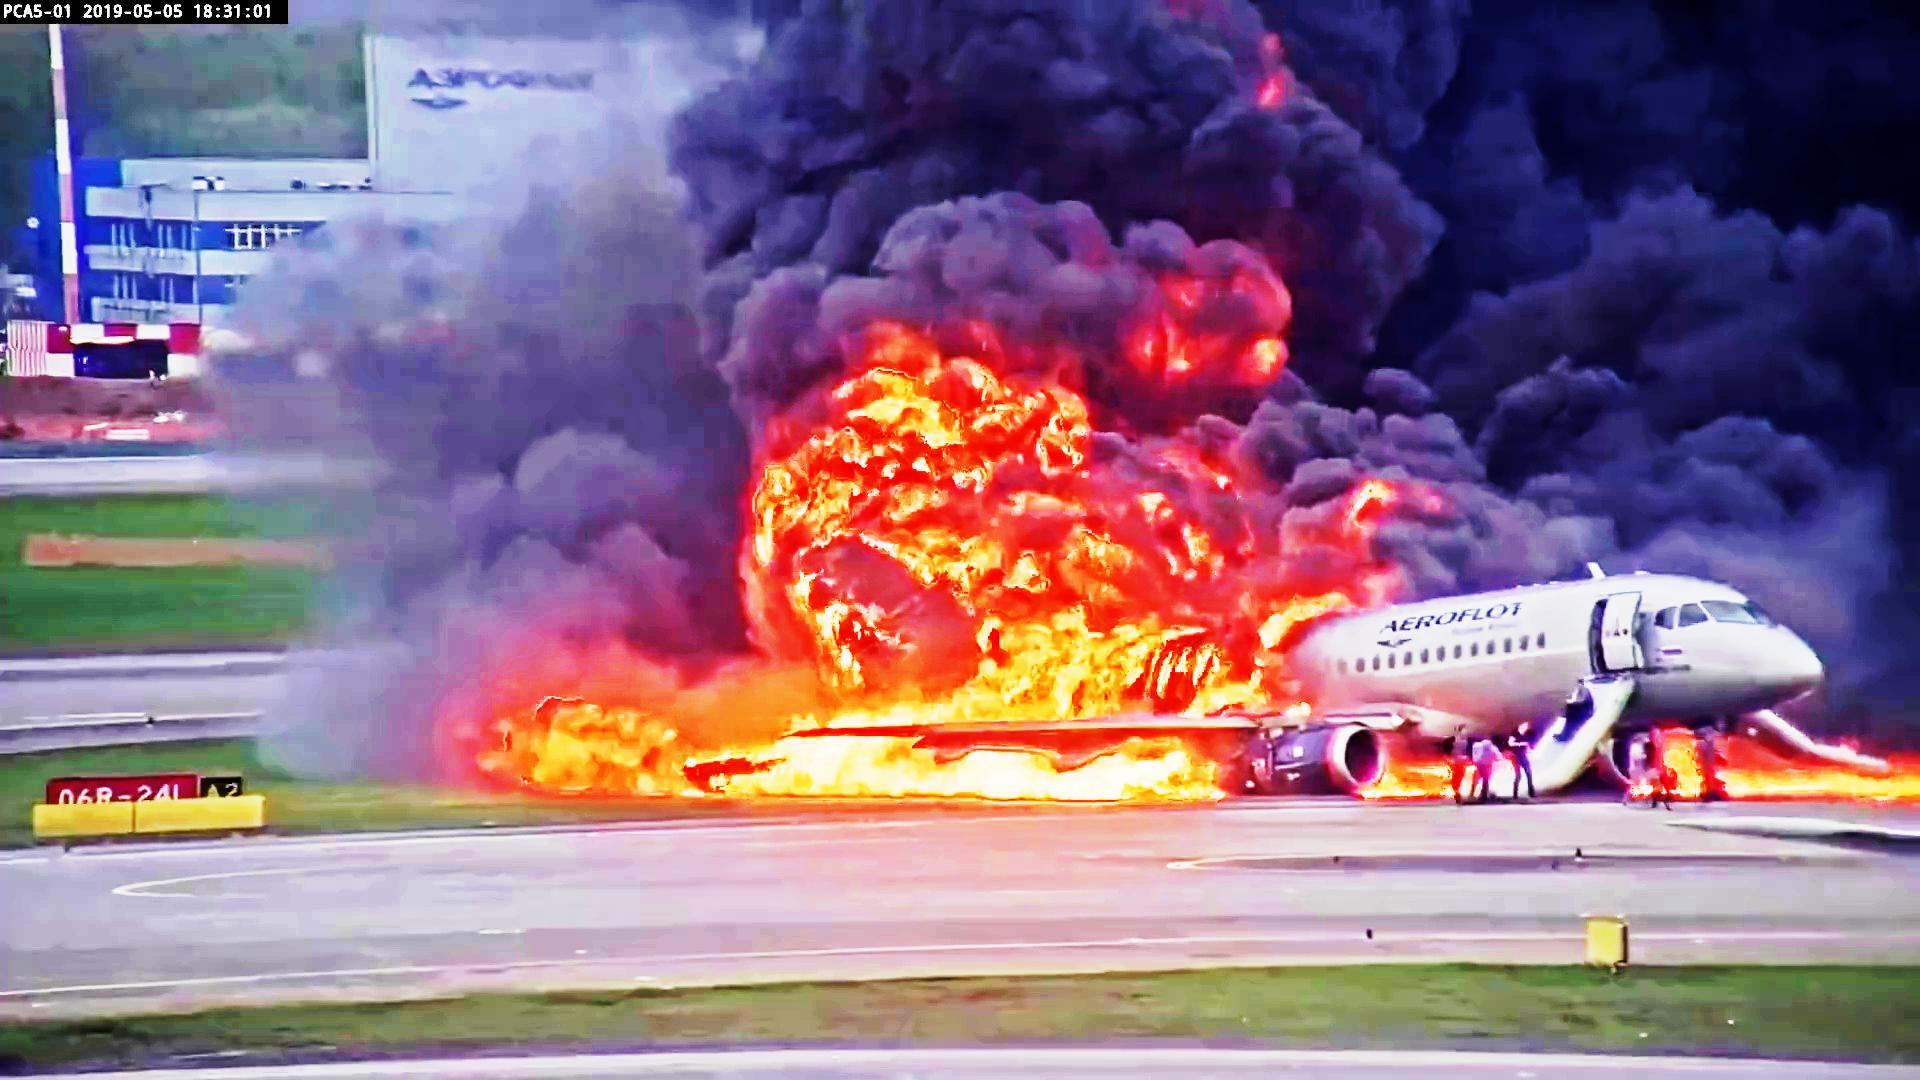fire: (825, 385, 1077, 587), (795, 723, 1185, 804), (543, 700, 791, 806), (985, 622, 1137, 723)
smoke: (1333, 18, 1920, 471), (750, 203, 1303, 347)
